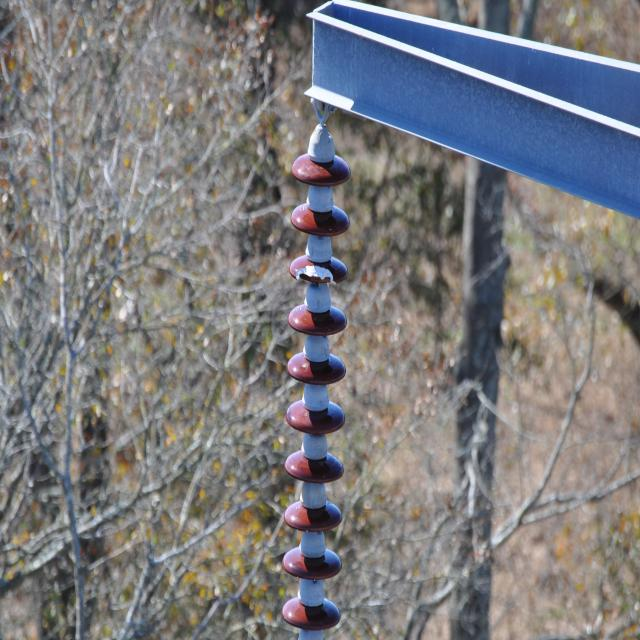broken: (290, 257, 343, 289)
insulator: (281, 153, 350, 629)
